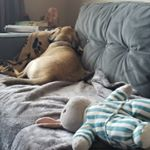puppy: (1, 24, 91, 88)
